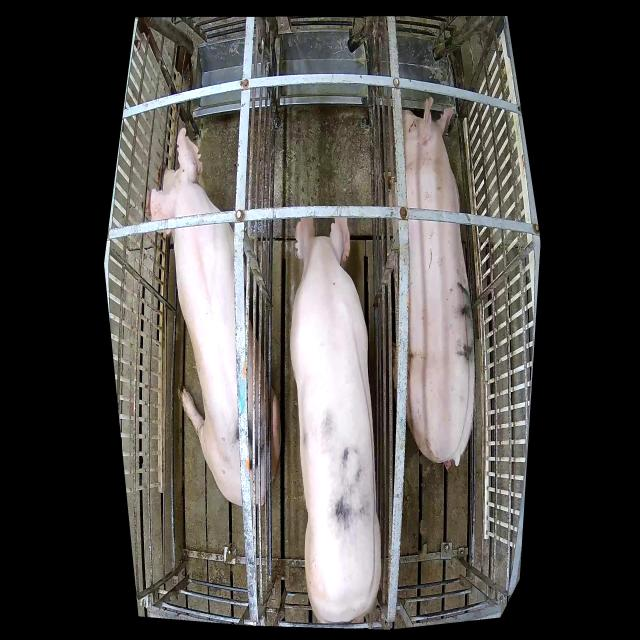pig: (145, 127, 280, 504), (290, 218, 381, 621), (402, 96, 475, 468)
